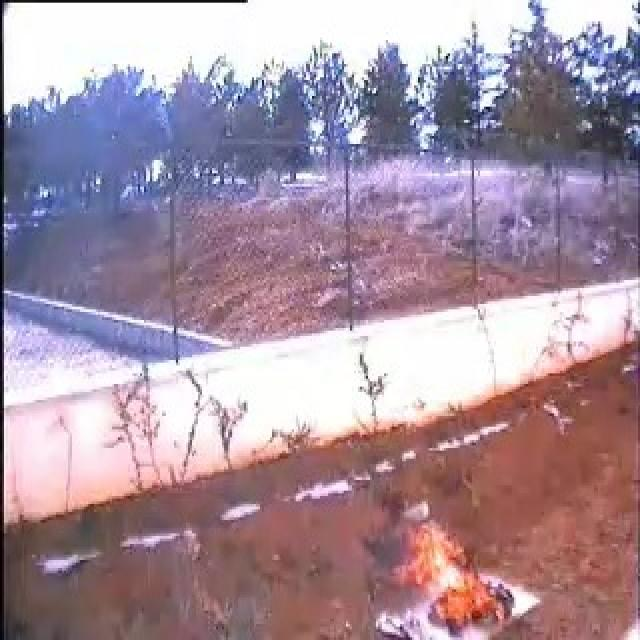fire: (406, 528, 508, 628)
smoke: (374, 522, 406, 564)
